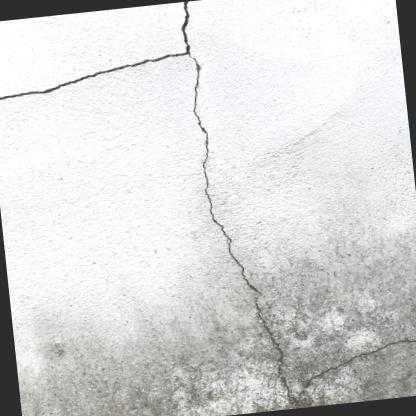crack: (0, 1, 296, 403), (296, 339, 416, 403)
